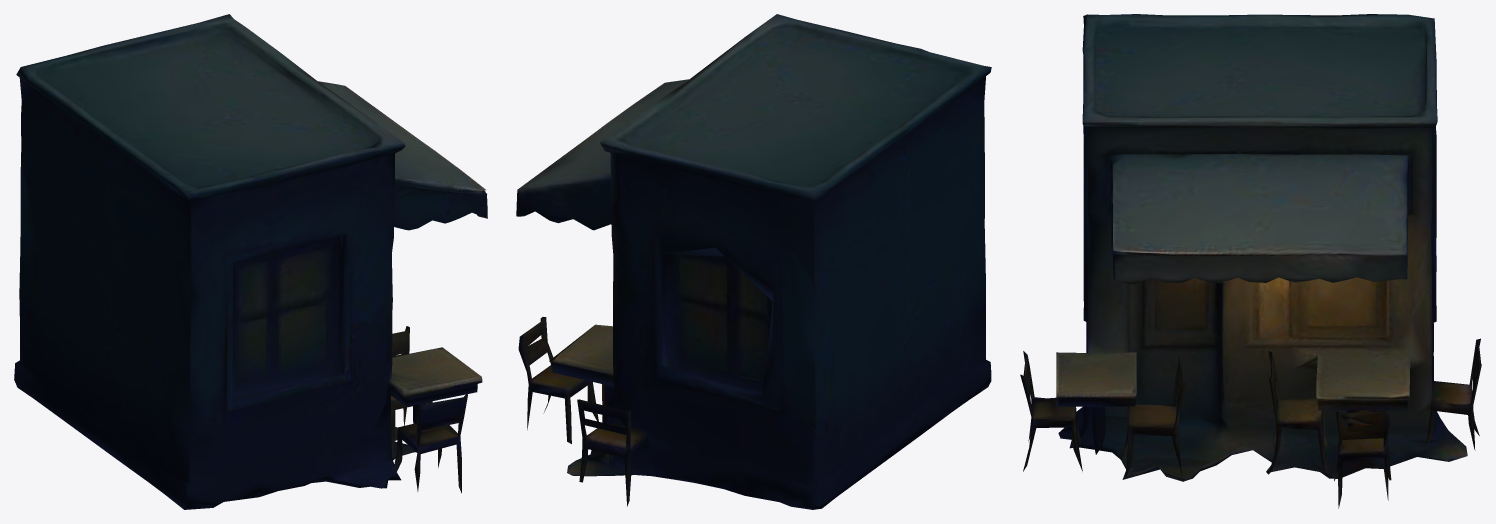
The model's file is 3d-restauracja.glb.
The picture shows the model from 3 angles, left to right: view 1: azimuth 30°, elevation 25°; view 2: azimuth 150°, elevation 25°; view 3: azimuth 270°, elevation 25°; orthographic projection.
Parts seen in each view (by area): view 1: tripo_node_48c29f7a-45c3-4564-a14b-2d7c54c95324; view 2: tripo_node_48c29f7a-45c3-4564-a14b-2d7c54c95324; view 3: tripo_node_48c29f7a-45c3-4564-a14b-2d7c54c95324.
Boxes of the visible parts, x1,y1,x2,y2 form: tripo_node_48c29f7a-45c3-4564-a14b-2d7c54c95324: (14,14,487,509); tripo_node_48c29f7a-45c3-4564-a14b-2d7c54c95324: (516,14,991,509); tripo_node_48c29f7a-45c3-4564-a14b-2d7c54c95324: (1020,14,1481,508).
Size of the model in its own units: 0.8182 by 0.8135 by 1.
Materials: 1 (1 with a texture image).
